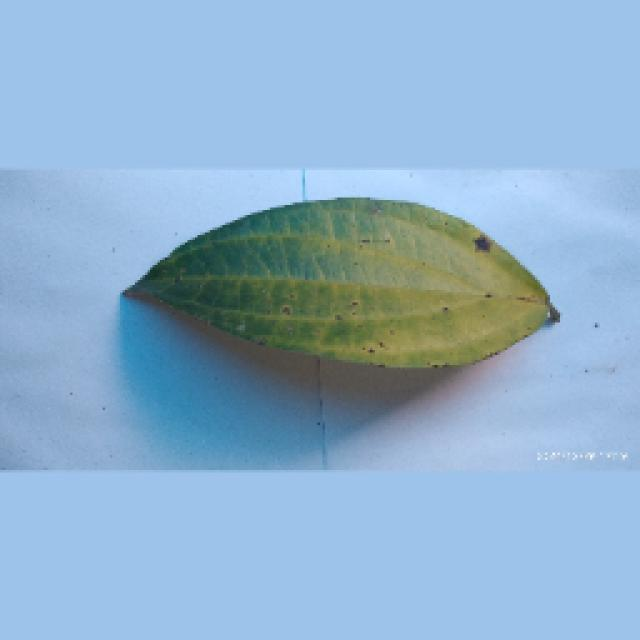slow-decline: (110, 188, 555, 450)
